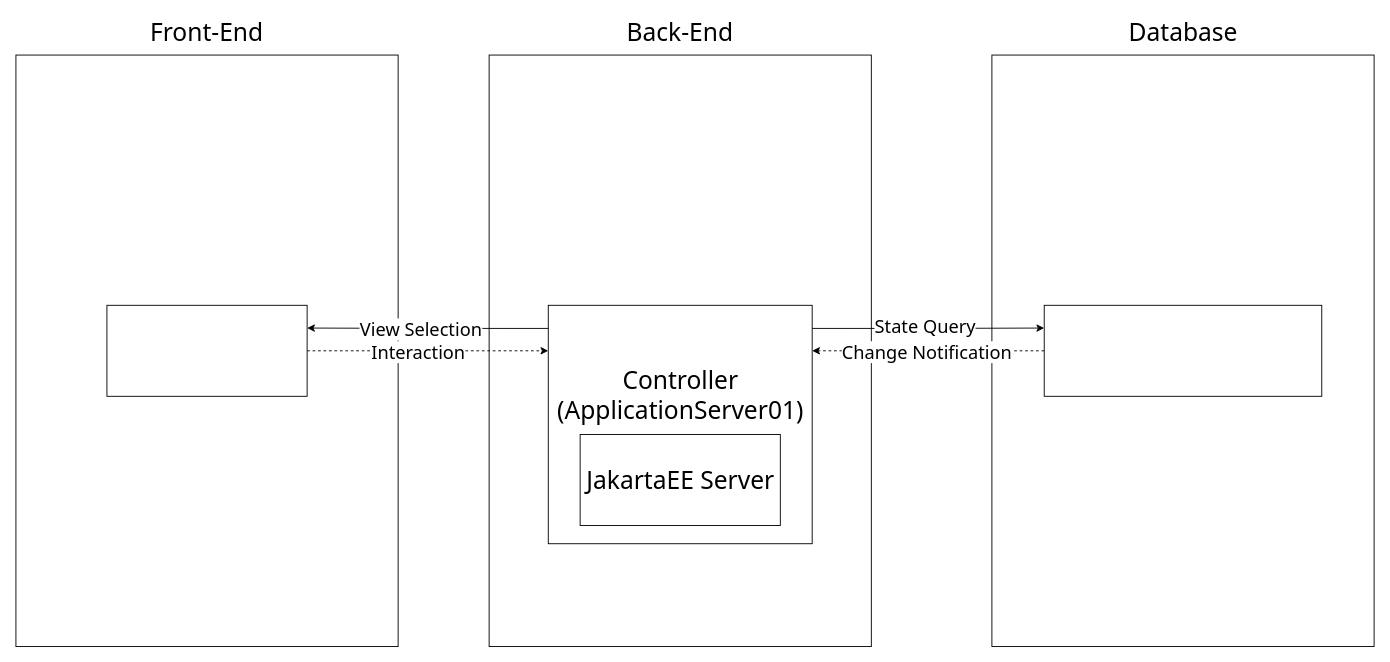
The diagram is 1390 pixels wide and 662 high, and some of its shapes have lost their labels. Here are the shapes that lost their labels. From the top down, the centre of each, then its label:
the point at 206,350: View (WebServer01)
the point at 1182,350: Model (DatabaseServer01)
